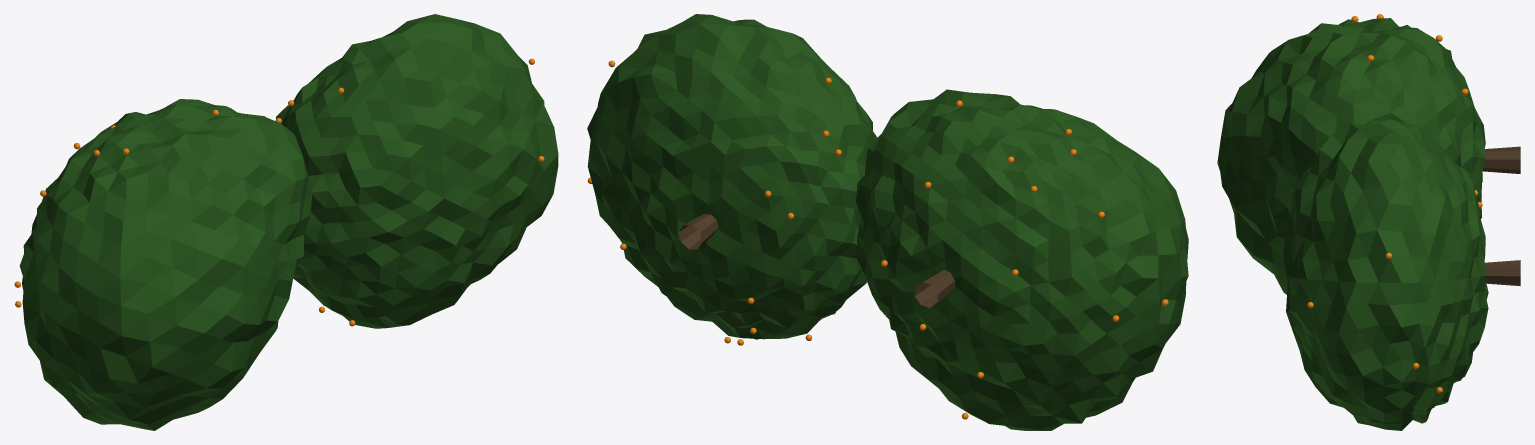
File: citrus_run2_a_fruit.obj
The picture shows the model from 3 angles, left to right: view 1: azimuth 30°, elevation 25°; view 2: azimuth 150°, elevation 25°; view 3: azimuth 270°, elevation 25°; orthographic projection. The views are drawn at different scales.
Parts seen in each view (by area): view 1: canopy, fruit; view 2: canopy, trunk, fruit; view 3: canopy, trunk, fruit.
Part boxes in pixels (box(x1,y1,x2,y2)): canopy: box(19, 14, 558, 430); fruit: box(14, 58, 544, 326); canopy: box(587, 14, 1188, 430); trunk: box(679, 214, 955, 307); fruit: box(587, 60, 1168, 419); canopy: box(1217, 18, 1488, 430); trunk: box(1482, 146, 1520, 286); fruit: box(1307, 14, 1482, 419).
Size of the model in its own units: 7.18 by 4.07 by 3.4.
